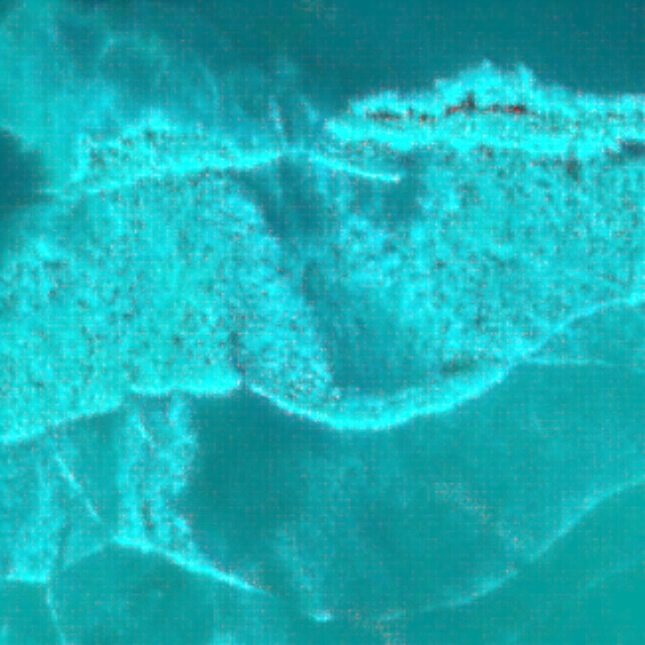rip_current: (190, 52, 417, 599)
